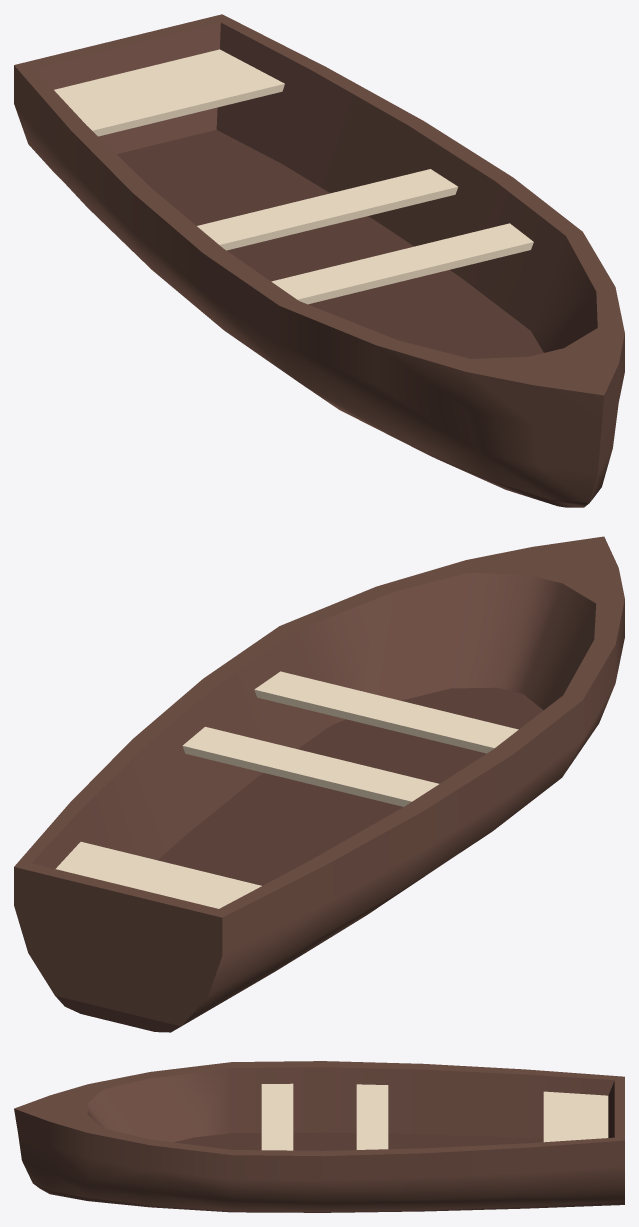
File: Wood_Boat.fbx
3 views of the same model, one above another, from view 1: azimuth 30°, elevation 25°; view 2: azimuth 150°, elevation 25°; view 3: azimuth 270°, elevation 25° (orthographic). The views are drawn at different scales.
Parts seen in each view (by area): view 1: Wood_Boat; view 2: Wood_Boat; view 3: Wood_Boat.
Part boxes in pixels (x1,y1,x2,y2): Wood_Boat: [14, 14, 624, 507]; Wood_Boat: [14, 536, 624, 1032]; Wood_Boat: [14, 1061, 624, 1212].
Bounding box in the file's own units: 44.63 × 17.98 × 121.
